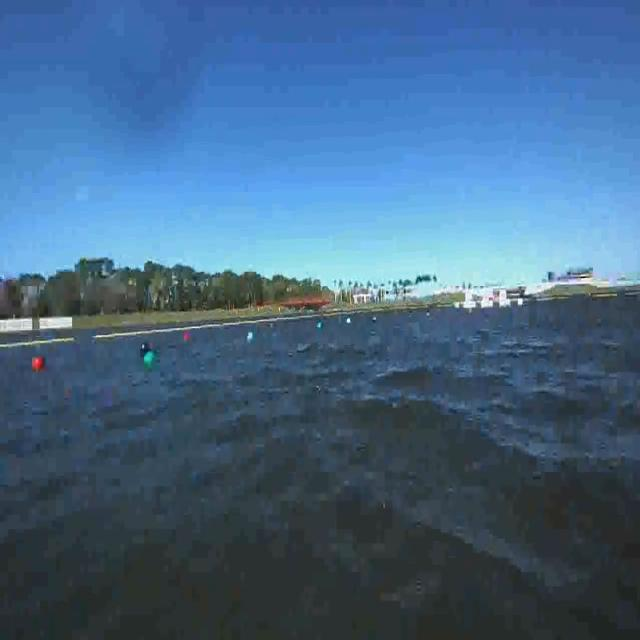green-buoy: (143, 351, 156, 367)
red-buoy: (33, 357, 45, 371)
